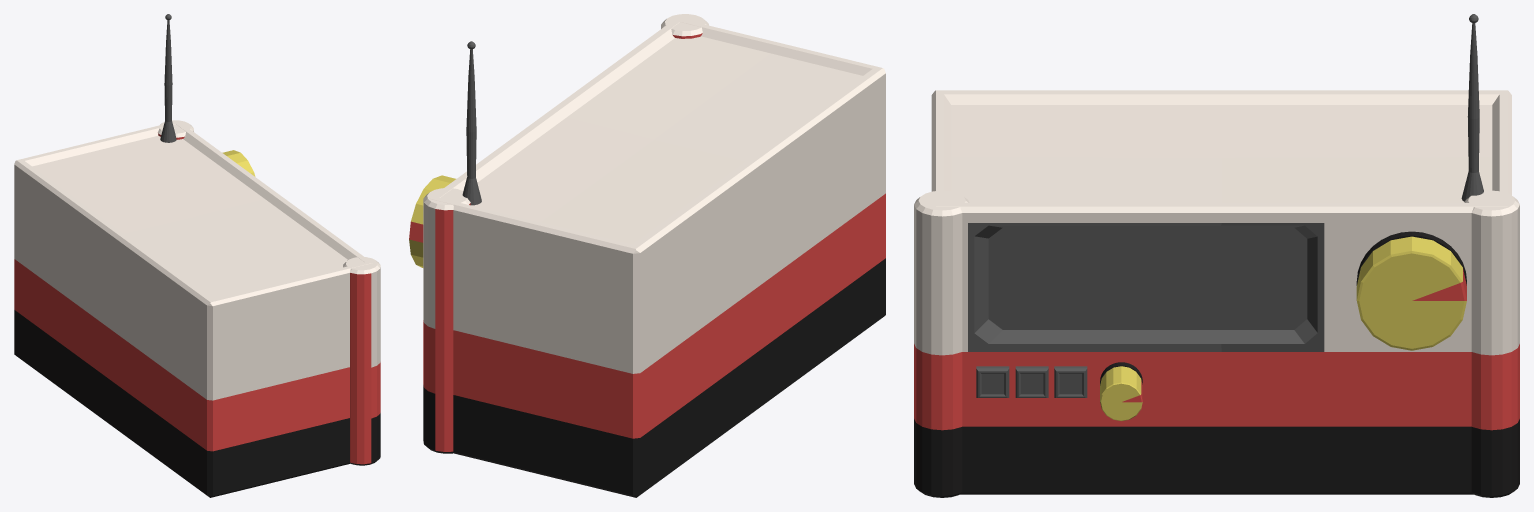
Rendered from radio.fbx.
3 renders of one model, left to right at view 1: azimuth 30°, elevation 25°; view 2: azimuth 150°, elevation 25°; view 3: azimuth 270°, elevation 25°, orthographic. The views are drawn at different scales.
Visible parts, largest first — view 1: Radio; view 2: Radio, Enc1; view 3: Radio, Enc1, Enc2.
Part boxes in pixels (<box>): Radio: <box>14,14,380,497</box>; Radio: <box>423,14,885,497</box>; Enc1: <box>409,175,455,267</box>; Radio: <box>914,14,1519,497</box>; Enc1: <box>1356,236,1466,350</box>; Enc2: <box>1100,366,1142,421</box>.
Bounding box in the file's own units: 480 × 736 × 870.
